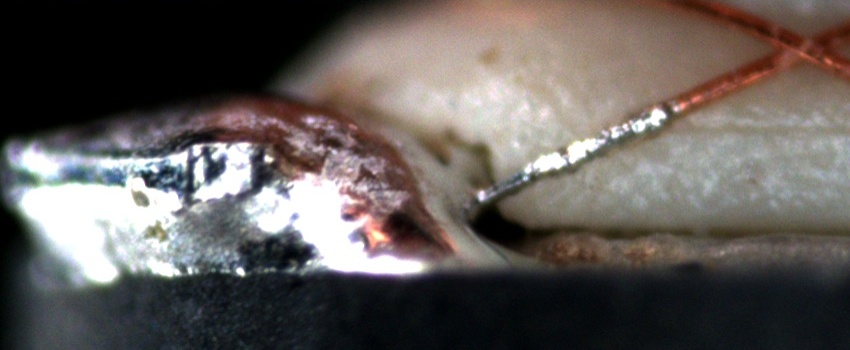CL: (755, 17, 840, 78)
DL: (641, 97, 850, 161)
TS: (481, 101, 677, 202)
TTCW: (477, 85, 709, 205)
